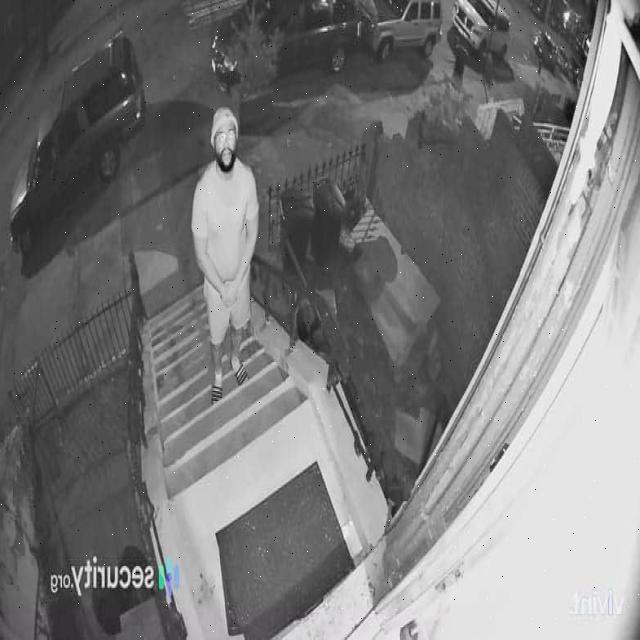standing: (192, 107, 258, 403)
